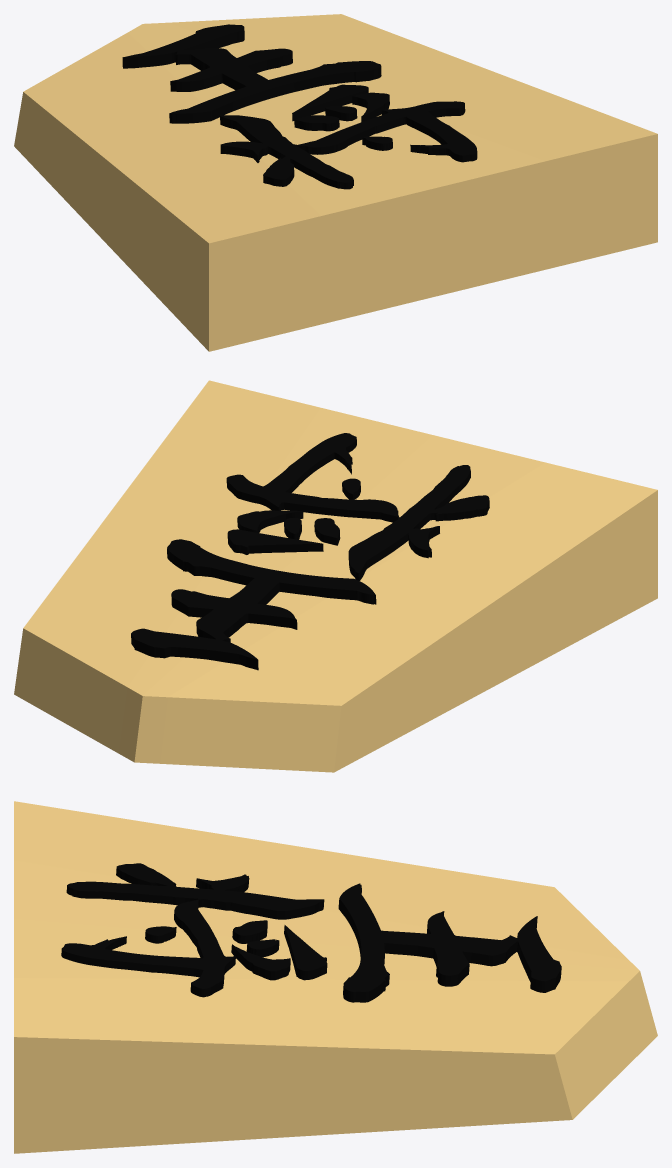
File: Roi.fbx
The picture shows the model from 3 angles, top to bottom: view 1: azimuth 30°, elevation 25°; view 2: azimuth 150°, elevation 25°; view 3: azimuth 270°, elevation 25°; orthographic projection. The views are drawn at different scales.
Visible parts, largest first — view 1: Roi; view 2: Roi; view 3: Roi.
Part boxes in pixels (<box>): Roi: <box>14,14,657,351</box>; Roi: <box>14,380,657,772</box>; Roi: <box>14,801,657,1153</box>.
Bounding box in the file's own units: 63.4 × 15.03 × 73.15.
